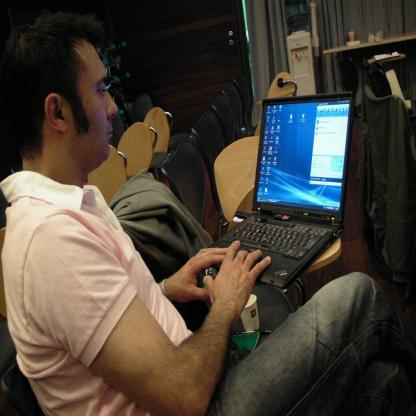board: (203, 95, 352, 293), (240, 293, 260, 333)
